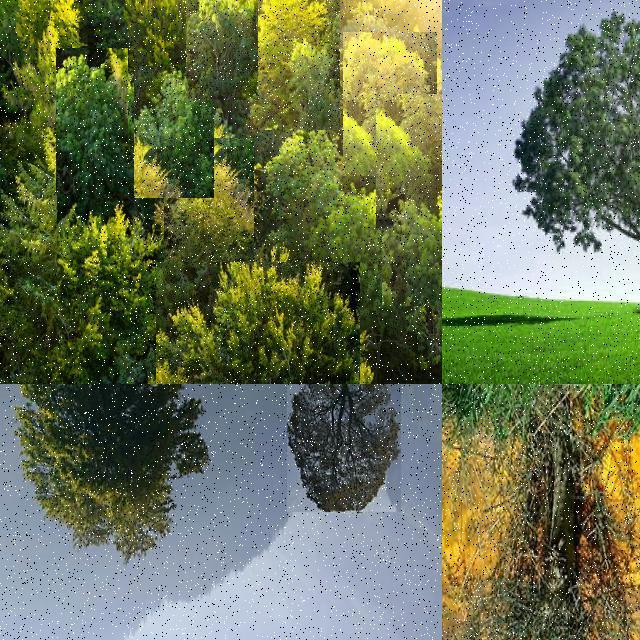tree: (500, 0, 640, 326), (442, 440, 640, 640), (18, 384, 210, 564), (156, 262, 360, 384), (21, 204, 155, 383), (316, 190, 442, 326), (287, 384, 401, 512), (343, 32, 437, 176), (164, 138, 254, 282), (0, 127, 57, 347), (250, 0, 340, 130), (265, 128, 343, 274), (134, 66, 214, 198), (56, 48, 128, 194), (356, 278, 442, 384), (376, 94, 442, 230), (186, 0, 258, 100), (11, 28, 75, 136), (382, 194, 442, 306), (12, 0, 80, 60), (130, 0, 186, 64), (413, 156, 442, 270), (414, 384, 442, 420)
